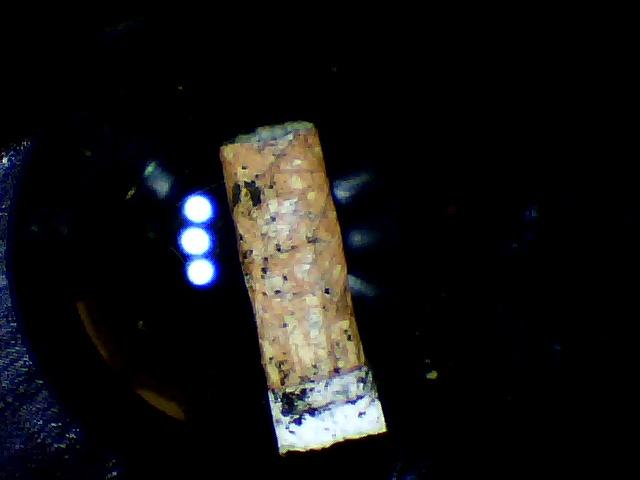megot: (205, 111, 395, 459)
